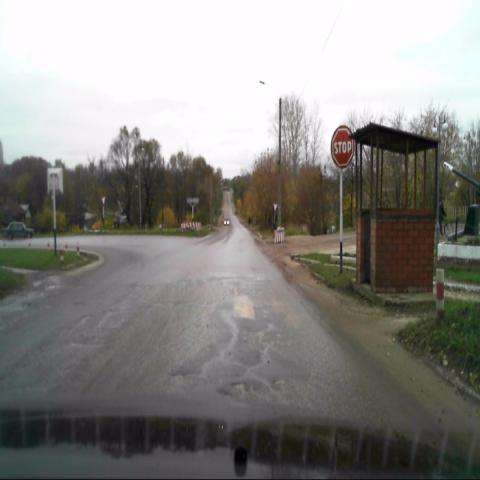2_5: (330, 125, 354, 168)
